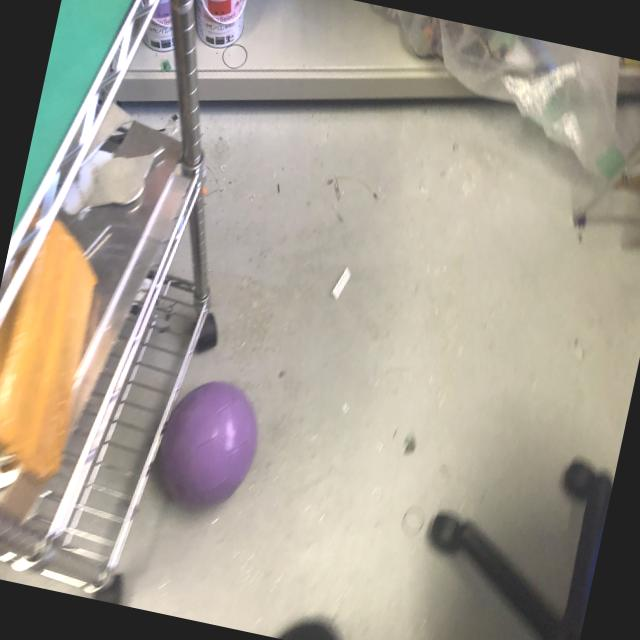purple_ball: (147, 369, 270, 518)
